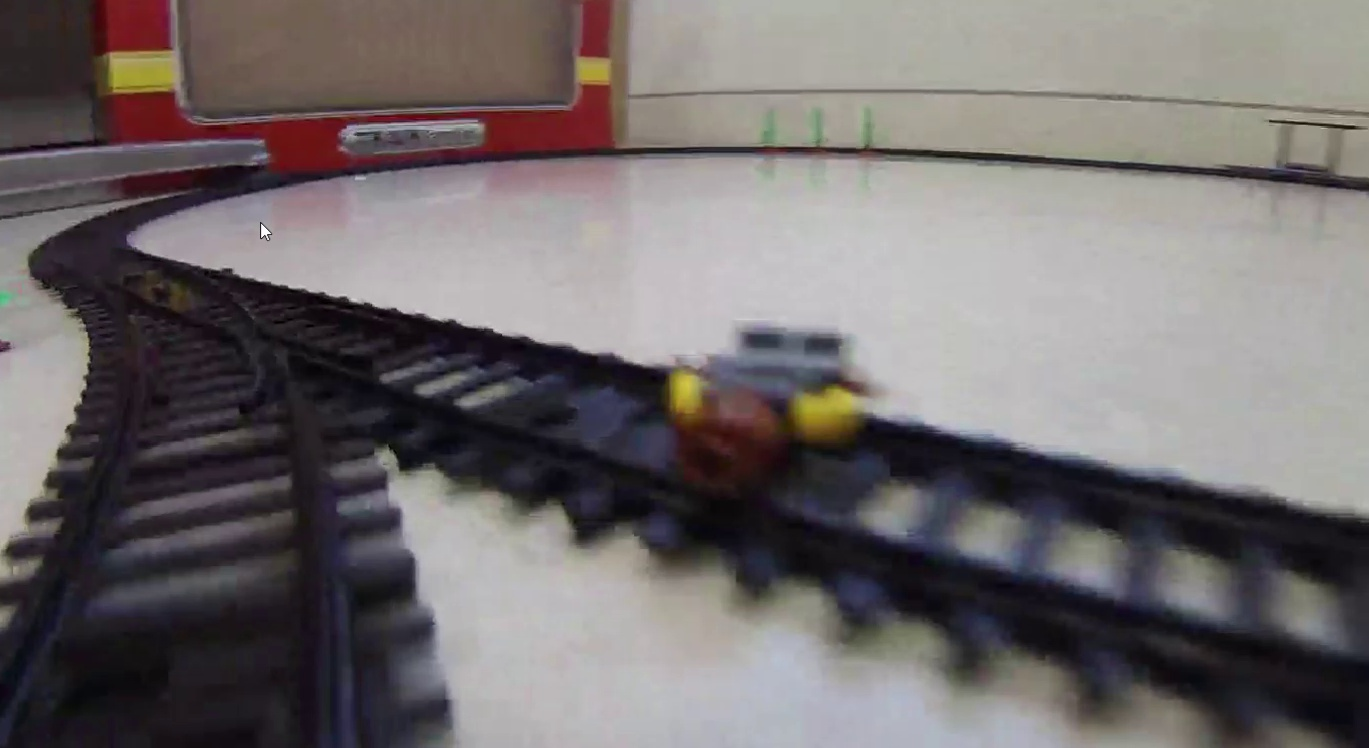people: (678, 324, 868, 515)
